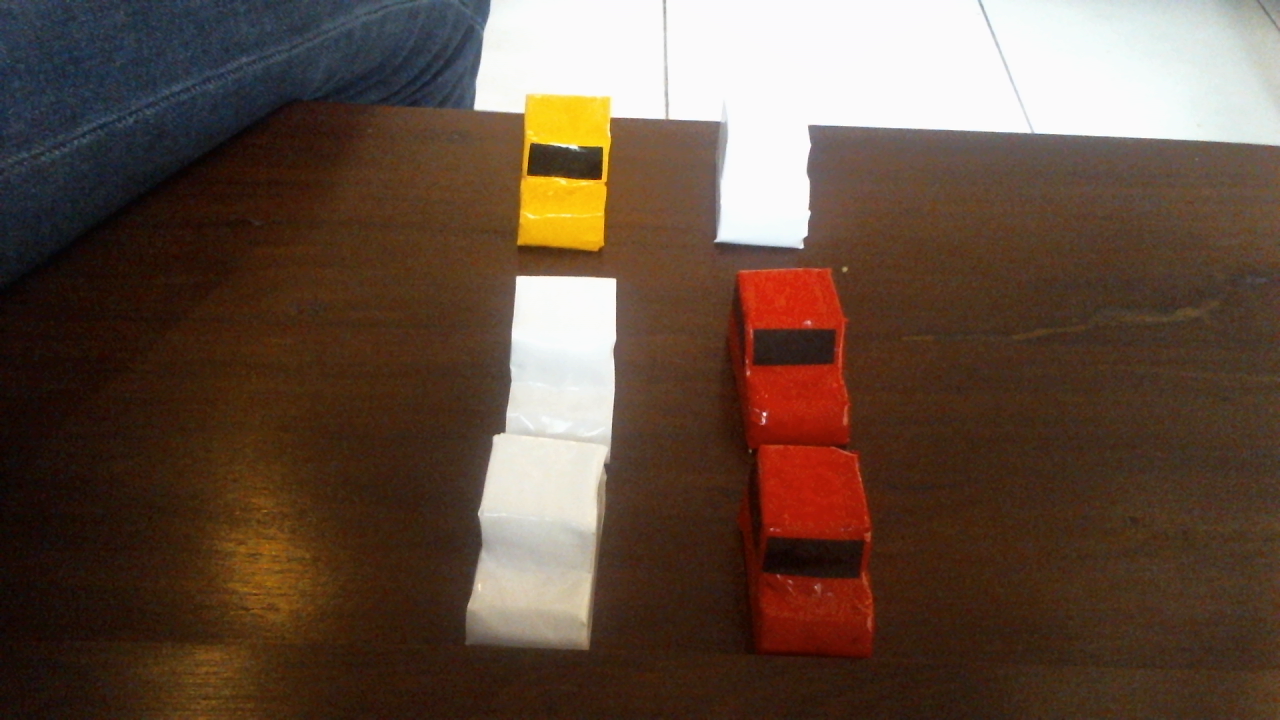Kijang Kapsul: (468, 67, 671, 272)
